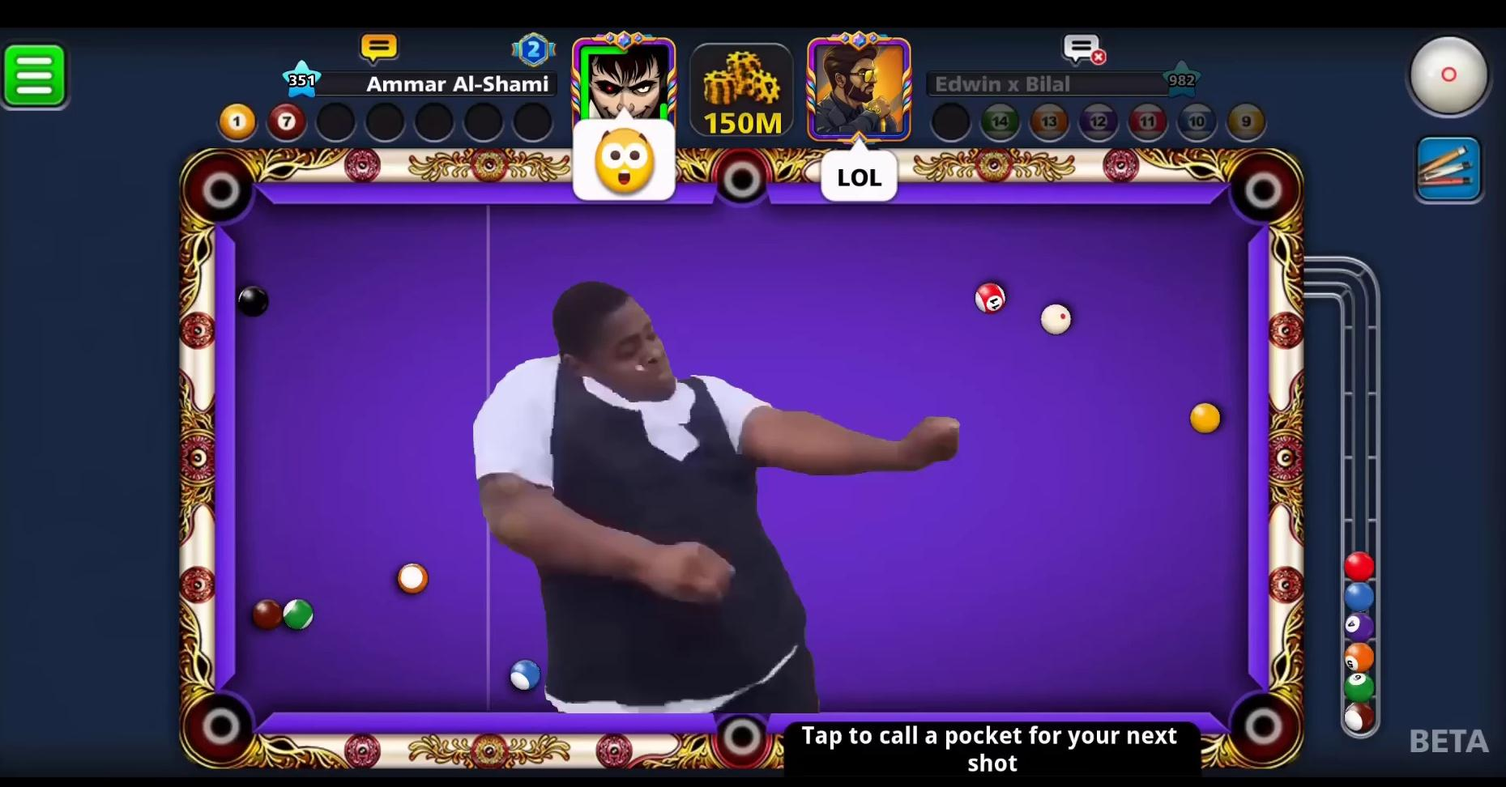Ball: (496, 653, 546, 697), (227, 283, 277, 321), (389, 560, 435, 599), (1185, 398, 1226, 436), (245, 595, 287, 632), (969, 280, 1009, 317)
Hole: (171, 681, 270, 775), (1218, 679, 1305, 776), (177, 140, 266, 232), (1221, 140, 1302, 234), (706, 144, 783, 221)
Play_Area: (235, 202, 1252, 713)
Spin: (1402, 28, 1504, 130)
White: (1037, 300, 1079, 336)
